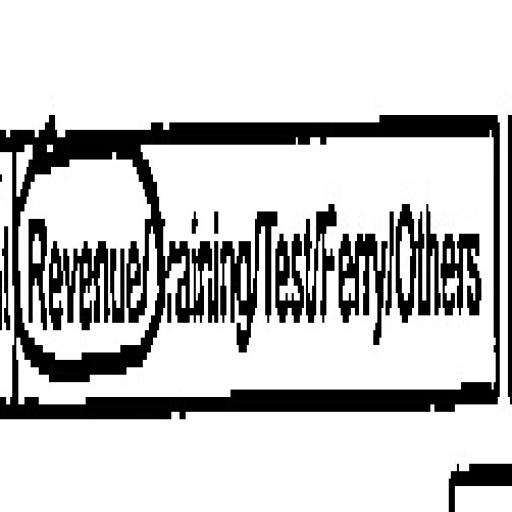check: (15, 53, 157, 512)
